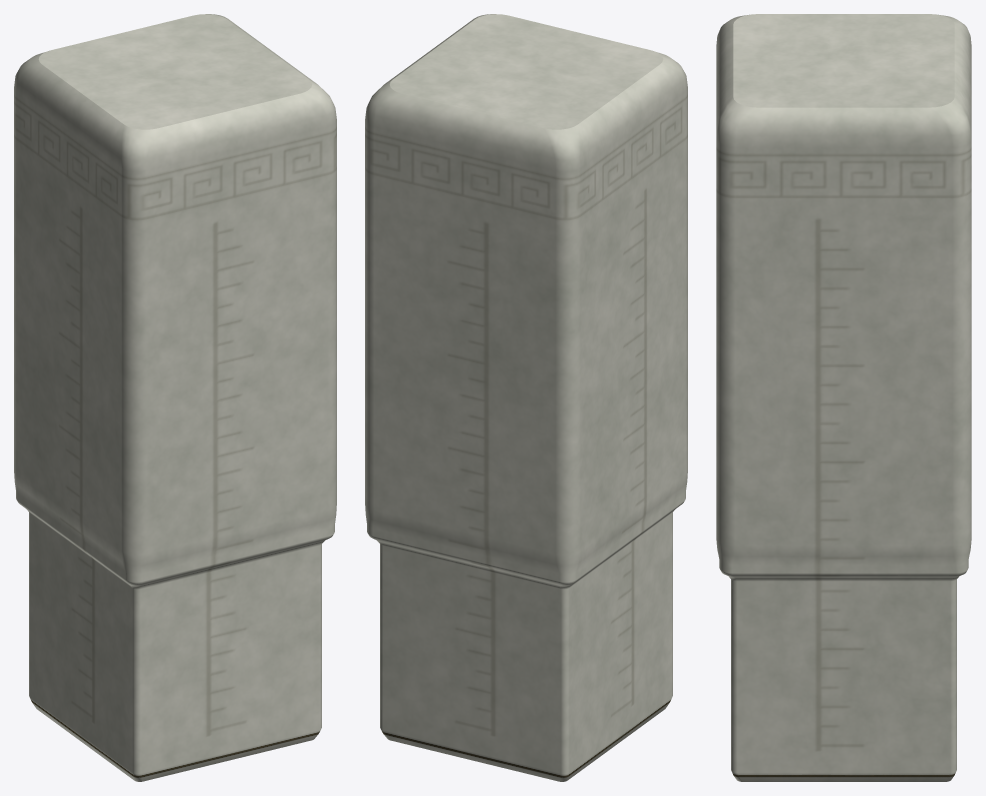
Rendered from MasterTenon_LODs.fbx.
3 views of the same model, side by side, from view 1: azimuth 30°, elevation 25°; view 2: azimuth 150°, elevation 25°; view 3: azimuth 270°, elevation 25° (orthographic). The views are drawn at different scales.
Parts seen in each view (by area): view 1: MasterTenon_LOD0; view 2: MasterTenon_LOD0; view 3: MasterTenon_LOD0.
Boxes of the visible parts, box(x1,y1,x2,y2) form: MasterTenon_LOD0: box(14, 14, 336, 781); MasterTenon_LOD0: box(365, 14, 687, 781); MasterTenon_LOD0: box(716, 14, 971, 781).
Size of what is drawn, in the model's own units: 12 by 35 by 12.
